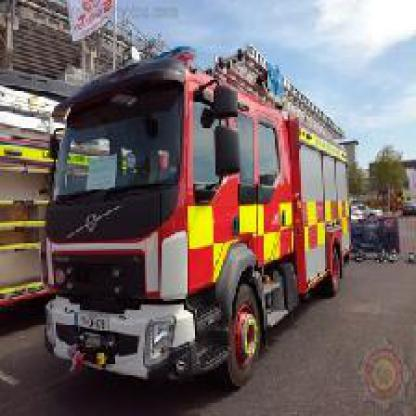emergency: (41, 39, 356, 392)
